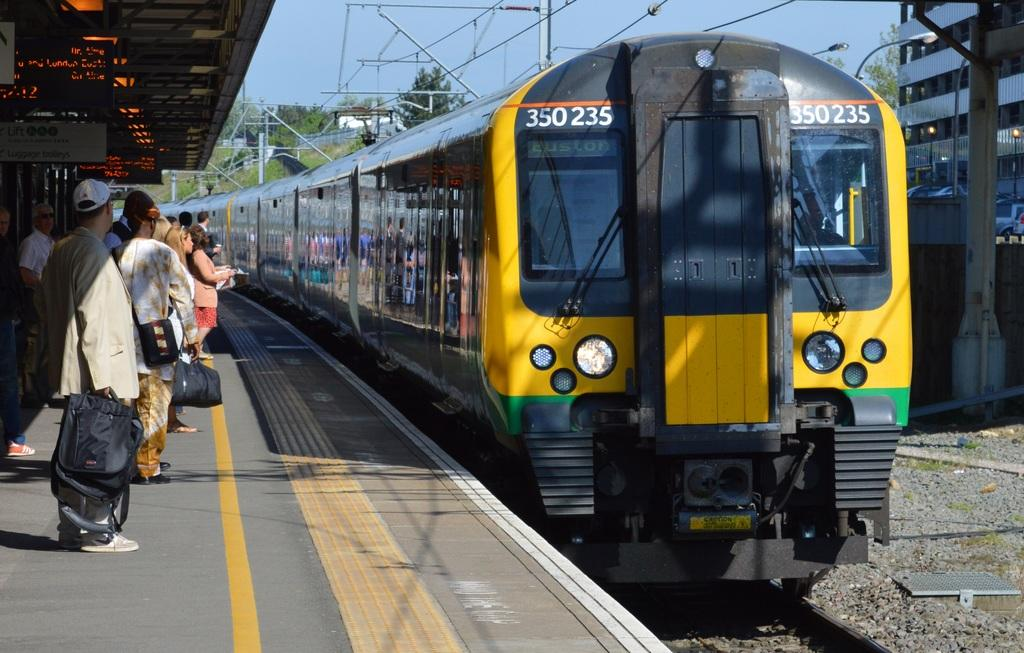Luggage-and-bags: (51, 386, 143, 503), (132, 243, 178, 367), (171, 341, 228, 414)
